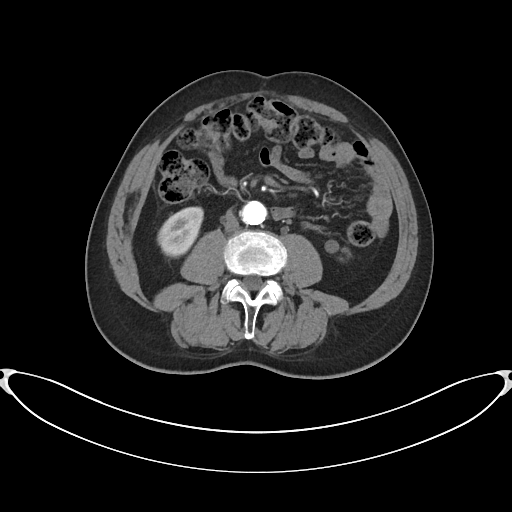Lesion: (320, 235, 341, 257)
